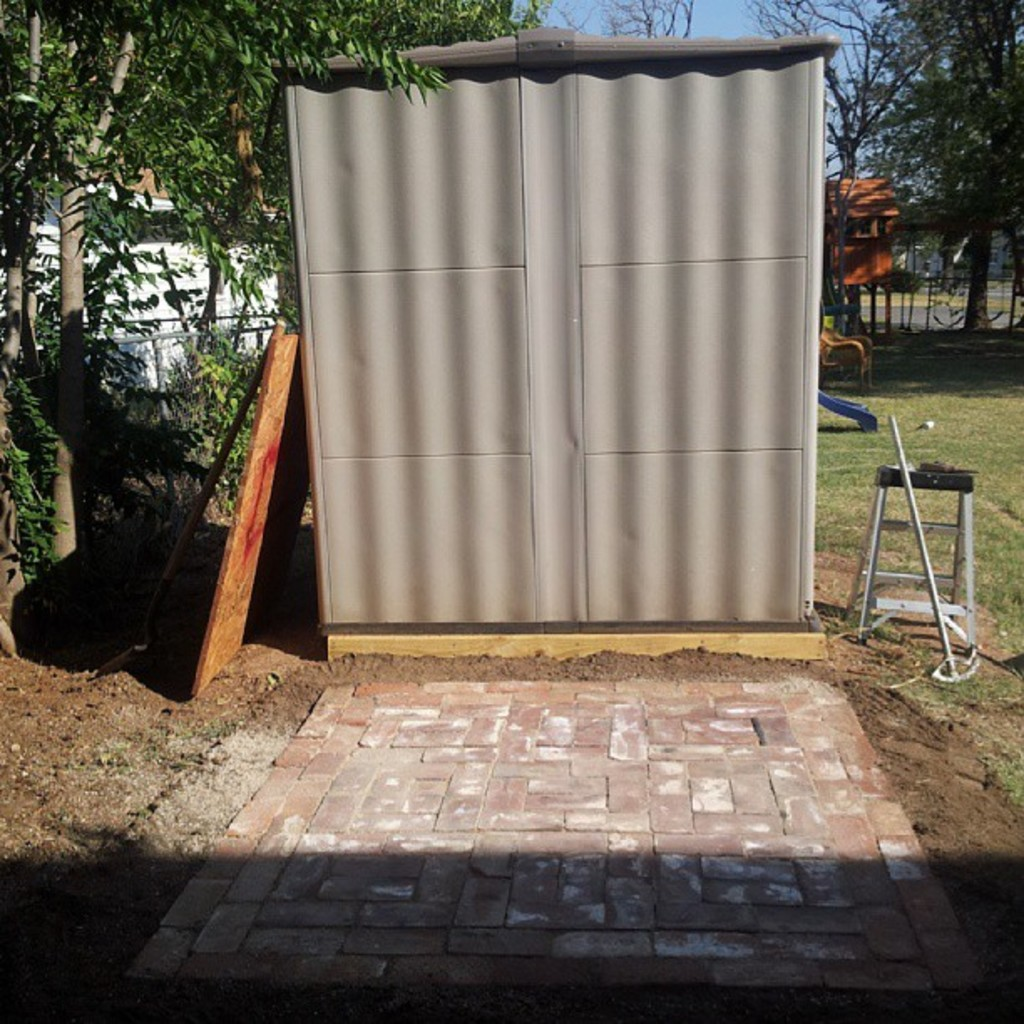Tree: (0, 0, 1024, 655)
